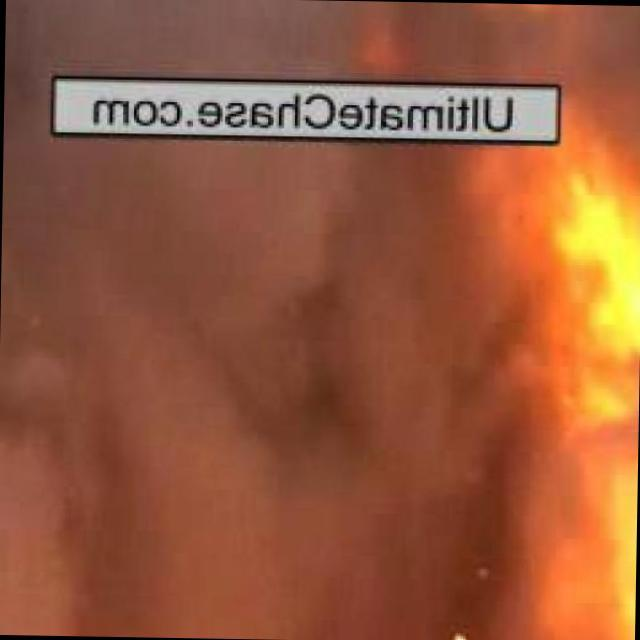Fire: (453, 98, 640, 640), (349, 1, 640, 78)
